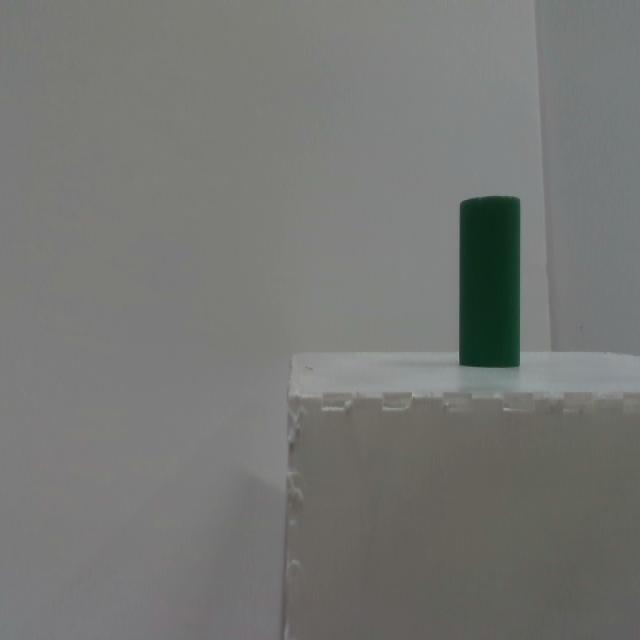green_cylinder: (458, 195, 521, 367)
